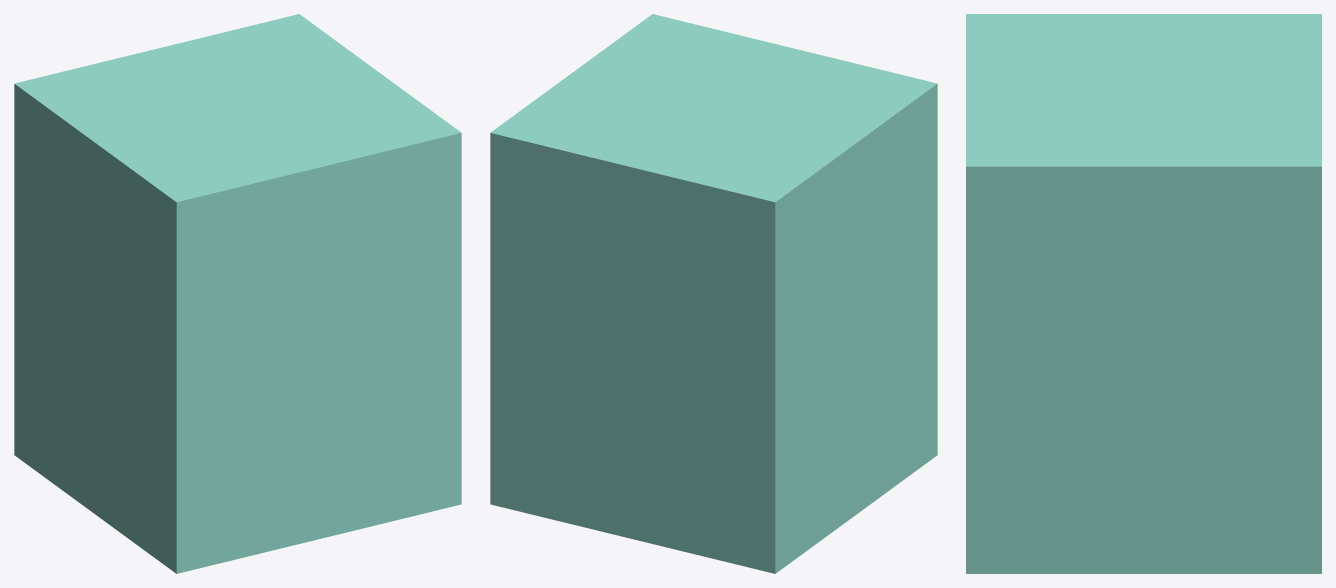
The model's file is paper_lantern.DAE.
3 renders of one model, left to right at view 1: azimuth 30°, elevation 25°; view 2: azimuth 150°, elevation 25°; view 3: azimuth 270°, elevation 25°, orthographic. The views are drawn at different scales.
Parts seen in each view (by area): view 1: bounds; view 2: bounds; view 3: bounds.
Part boxes in pixels (x1=…): bounds: x1=14, y1=14, x2=461, y2=573; bounds: x1=490, y1=14, x2=937, y2=573; bounds: x1=966, y1=14, x2=1321, y2=573.
Bounding box in the file's own units: 120 × 119 × 150.
